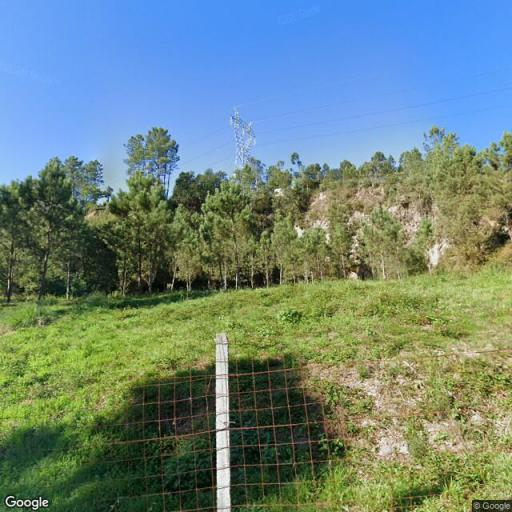wt_5: (228, 110, 258, 173)
